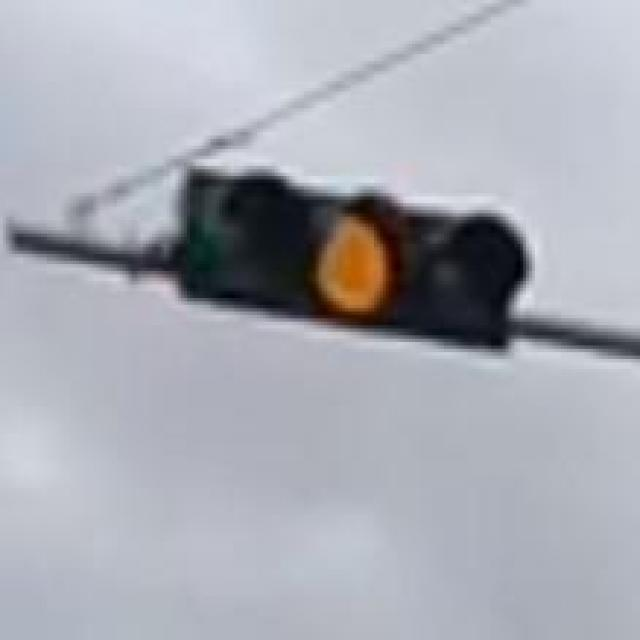yellow_light: (184, 163, 532, 356)
